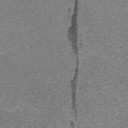red iron: (68, 0, 78, 55), (70, 60, 78, 114), (70, 122, 74, 127)
